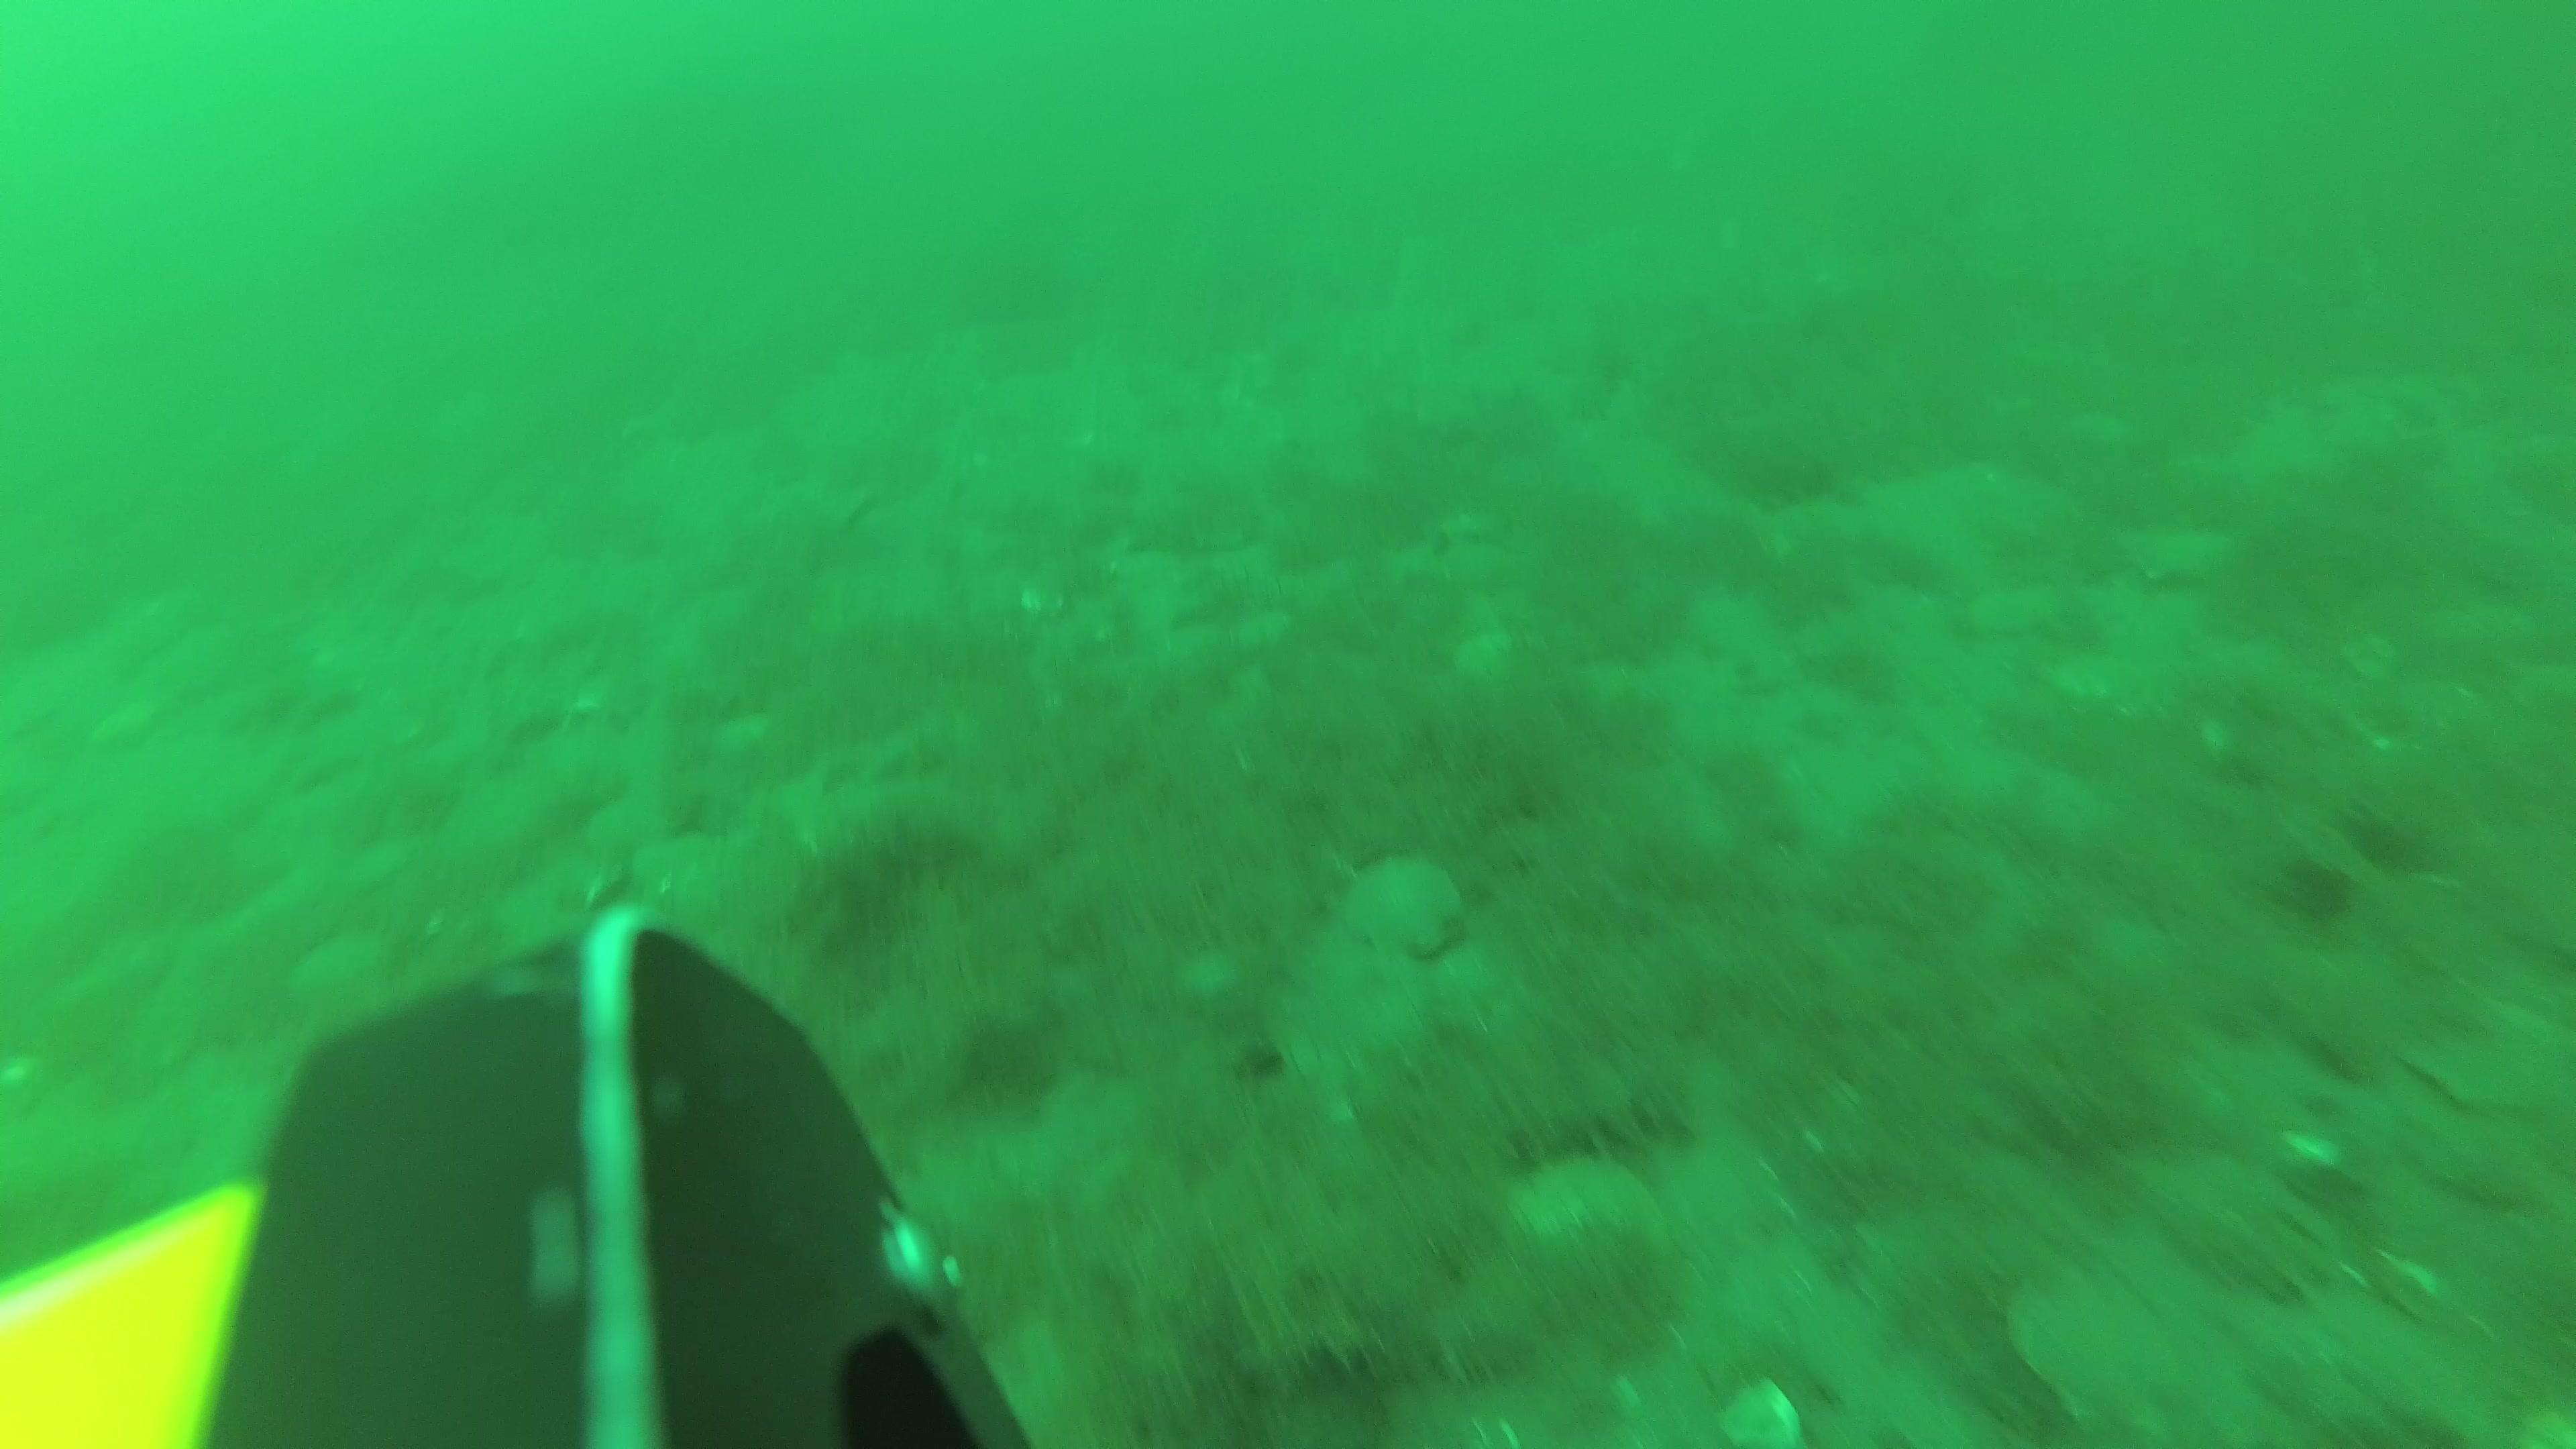scallop: (2001, 1276, 2180, 1449), (1500, 1146, 1679, 1279), (1339, 853, 1470, 973)
